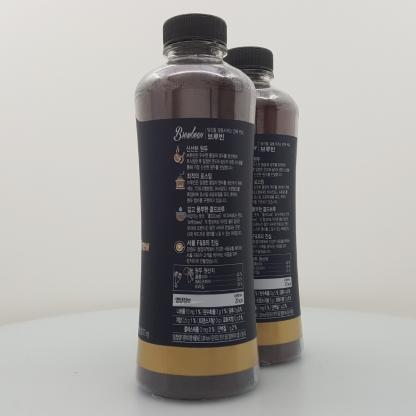-------------: (133, 13, 259, 401)
